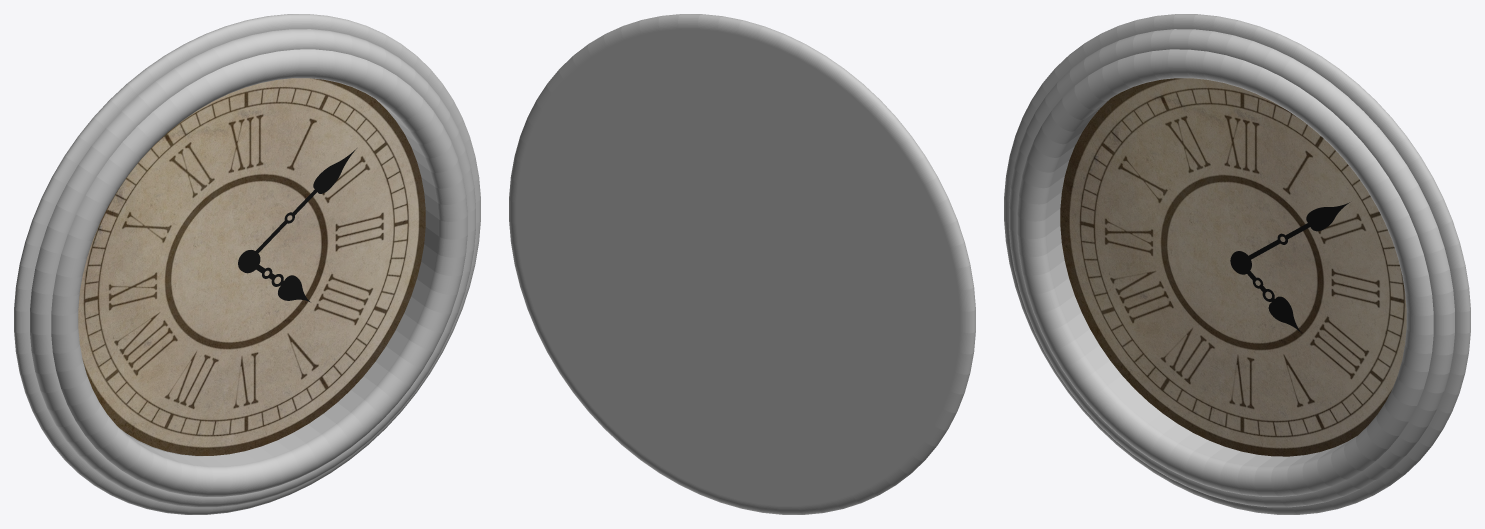
File: Clock 11.fbx
3 renders of one model, left to right at view 1: azimuth 30°, elevation 25°; view 2: azimuth 150°, elevation 25°; view 3: azimuth 330°, elevation 25°, orthographic.
Parts seen in each view (by area): view 1: Clock 11, hours, minutes; view 2: Clock 11; view 3: Clock 11, hours, minutes.
Part boxes in pixels (x1=…): Clock 11: x1=14, y1=14, x2=480, y2=514; hours: x1=239, y1=250, x2=310, y2=302; minutes: x1=238, y1=148, x2=356, y2=270; Clock 11: x1=509, y1=14, x2=975, y2=514; Clock 11: x1=1004, y1=14, x2=1470, y2=514; hours: x1=1230, y1=252, x2=1301, y2=333; minutes: x1=1232, y1=202, x2=1349, y2=268.
Size of the model in its own units: 32.52 by 32.56 by 2.59.
